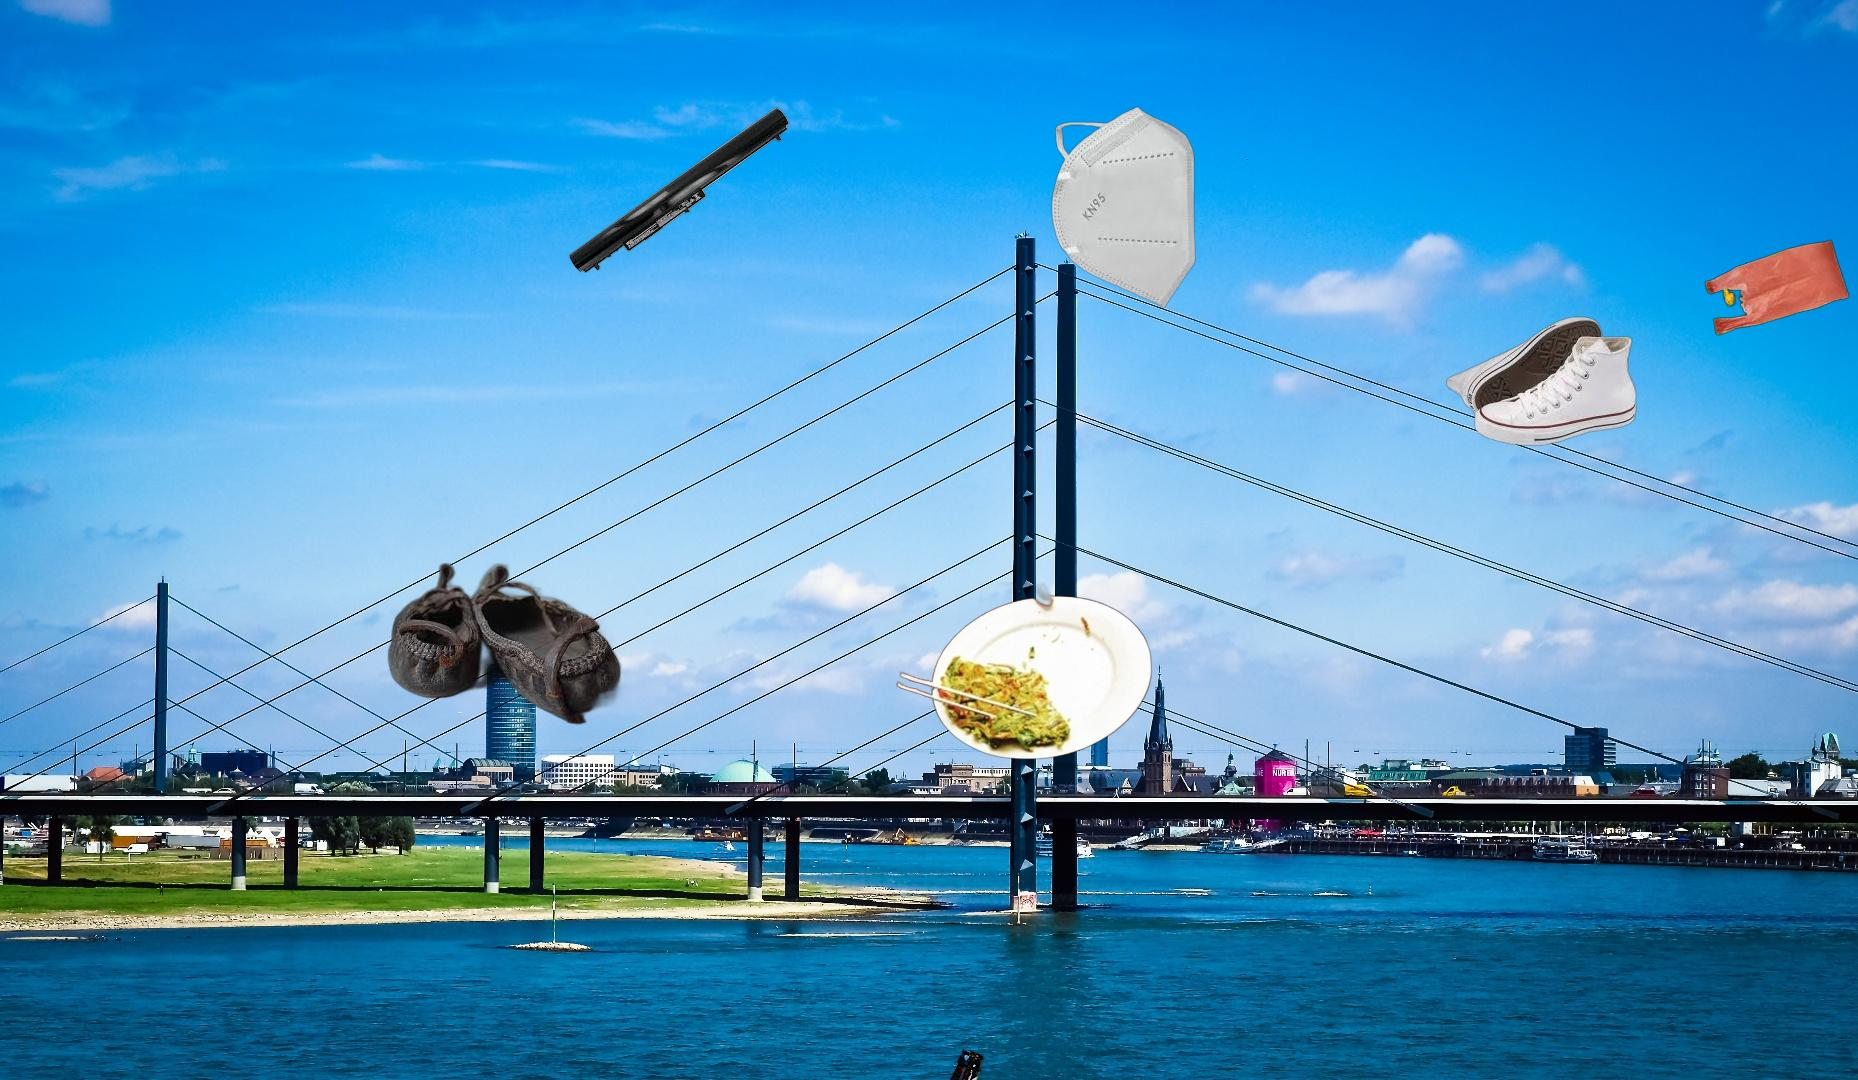battery: (567, 105, 792, 276)
biological: (846, 582, 1153, 762)
glass: (877, 1044, 988, 1080)
plastic-bag: (1702, 237, 1852, 336)
shoes: (384, 555, 633, 732), (1444, 314, 1639, 447)
trash: (977, 105, 1198, 320), (980, 1077, 1214, 1080)
